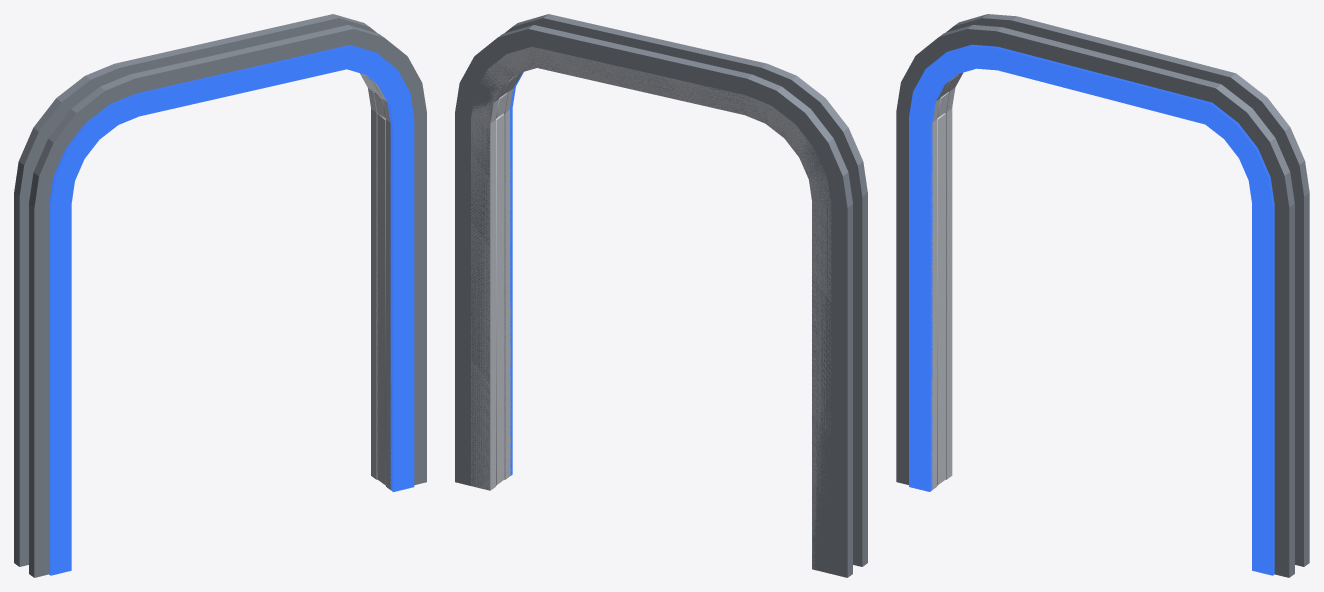
Rendered from doorframe_twin_ring.glb.
The picture shows the model from 3 angles, left to right: view 1: azimuth 30°, elevation 25°; view 2: azimuth 150°, elevation 25°; view 3: azimuth 330°, elevation 25°; orthographic projection.
Visible parts, largest first — view 1: doorframe_twin_ring; view 2: doorframe_twin_ring; view 3: doorframe_twin_ring.
Part boxes in pixels (x1,y1,x2,y2): doorframe_twin_ring: [14, 14, 426, 577]; doorframe_twin_ring: [455, 14, 867, 577]; doorframe_twin_ring: [896, 14, 1309, 577].
Size of the model in its own units: 2.44 by 2.82 by 0.24.
